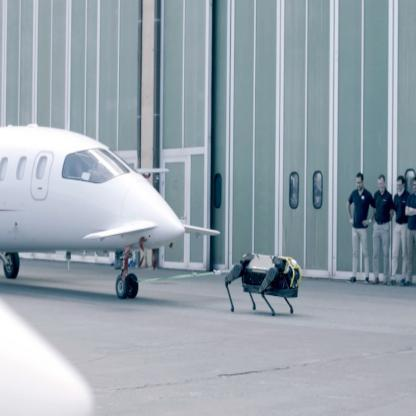CIV_Plane: (0, 113, 224, 321)
